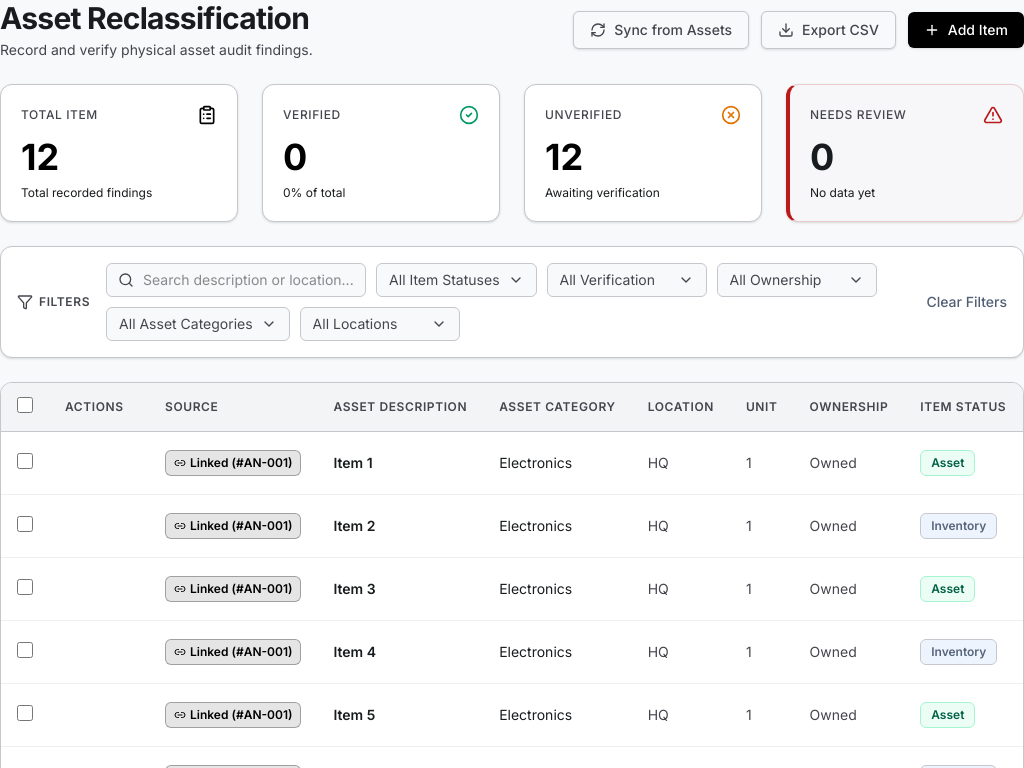
Test: Reclassification — bulk delete routing (deleteAll vs deleteMultiple) › clears the selection and reports completion once the delete resolves
Click the 2nd checkbox at (25, 460), box [17,452,33,468]
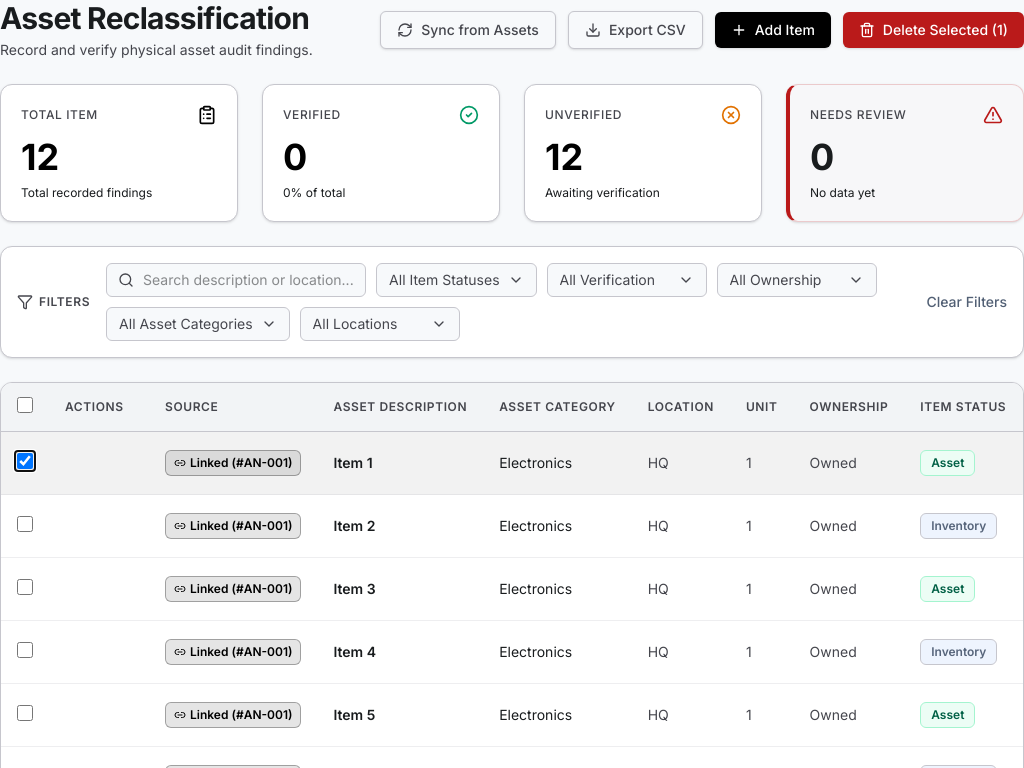
Click the button "Delete Selected (1)" at (933, 30), box [843,12,1023,48]
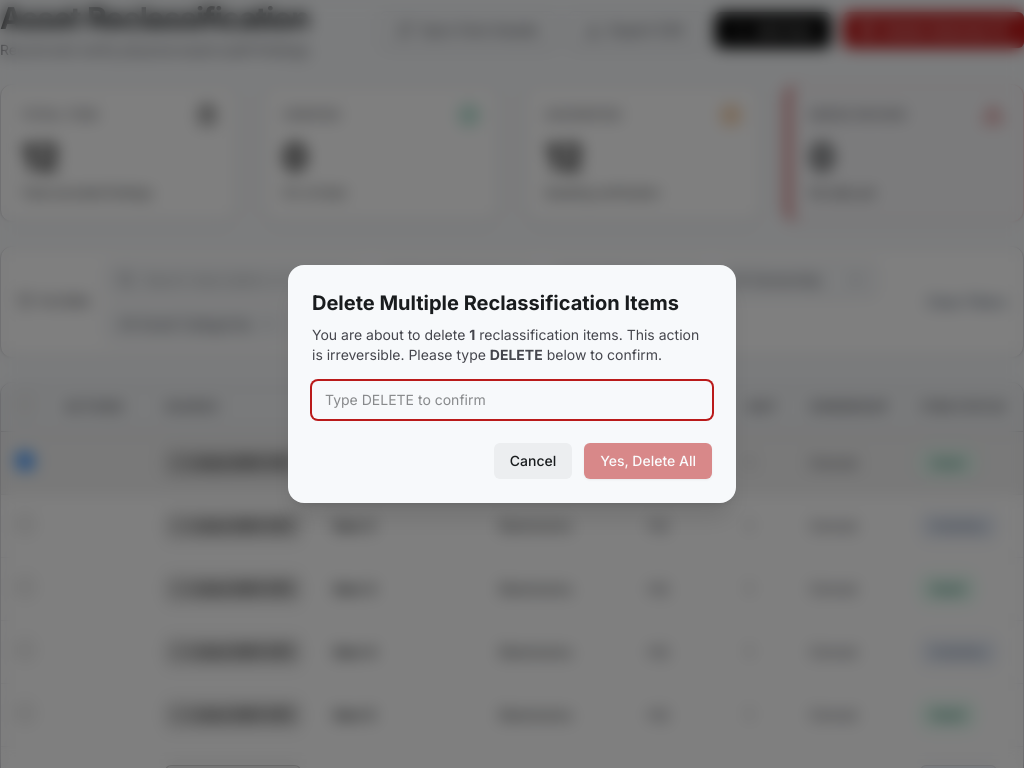
Type "DELETE" into the field with placeholder "Type DELETE to confirm" at (512, 400), box [312,381,712,419]
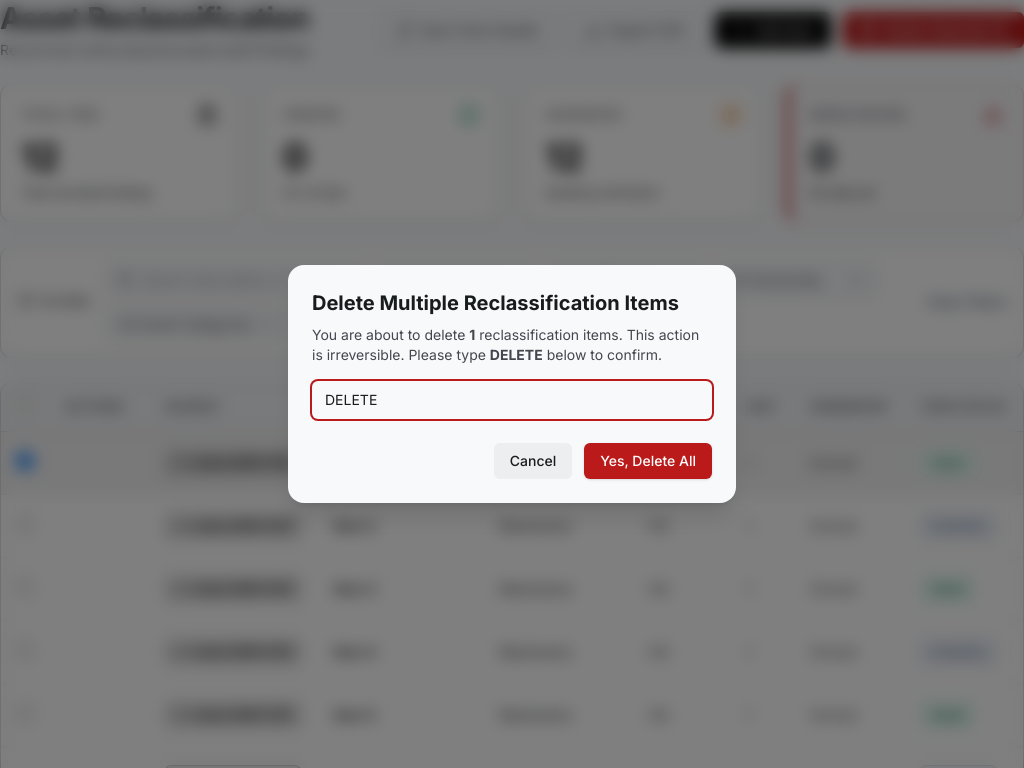
Click the button "Yes, Delete All" at (648, 461), box [584,443,712,479]
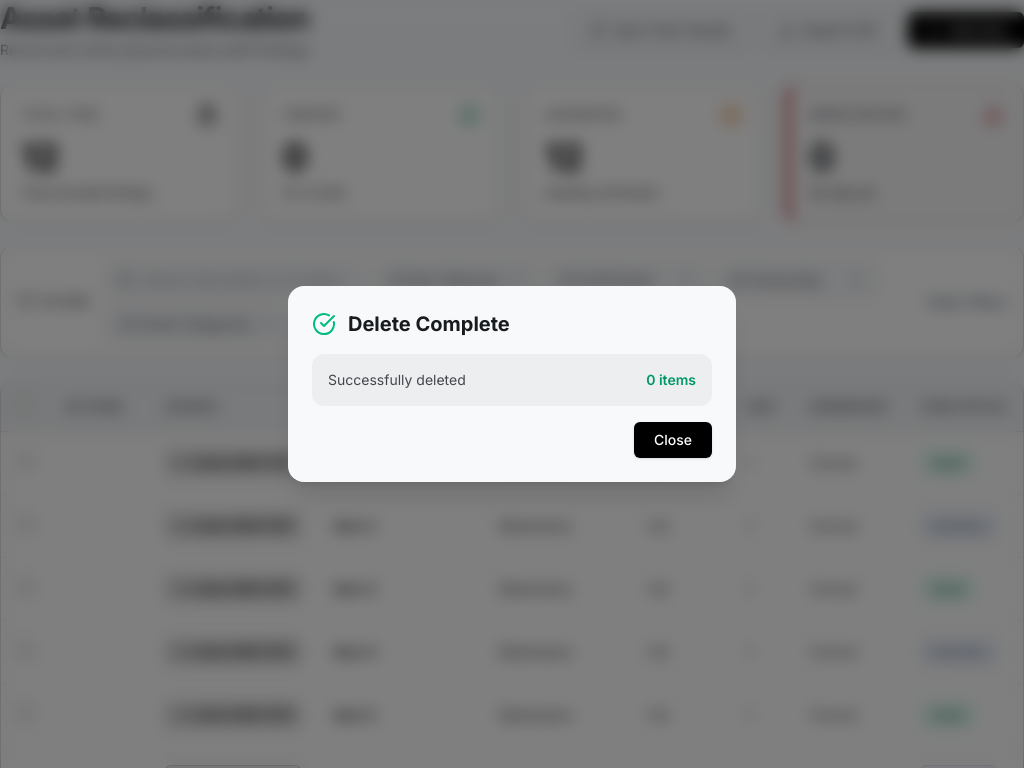
Expected: the heading "Delete Complete" is shown, [348,310,510,338]
Expected: the button "Delete Selected" is gone
